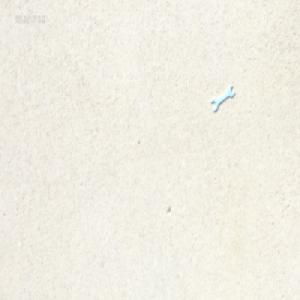Wrench: (209, 87, 234, 114)
